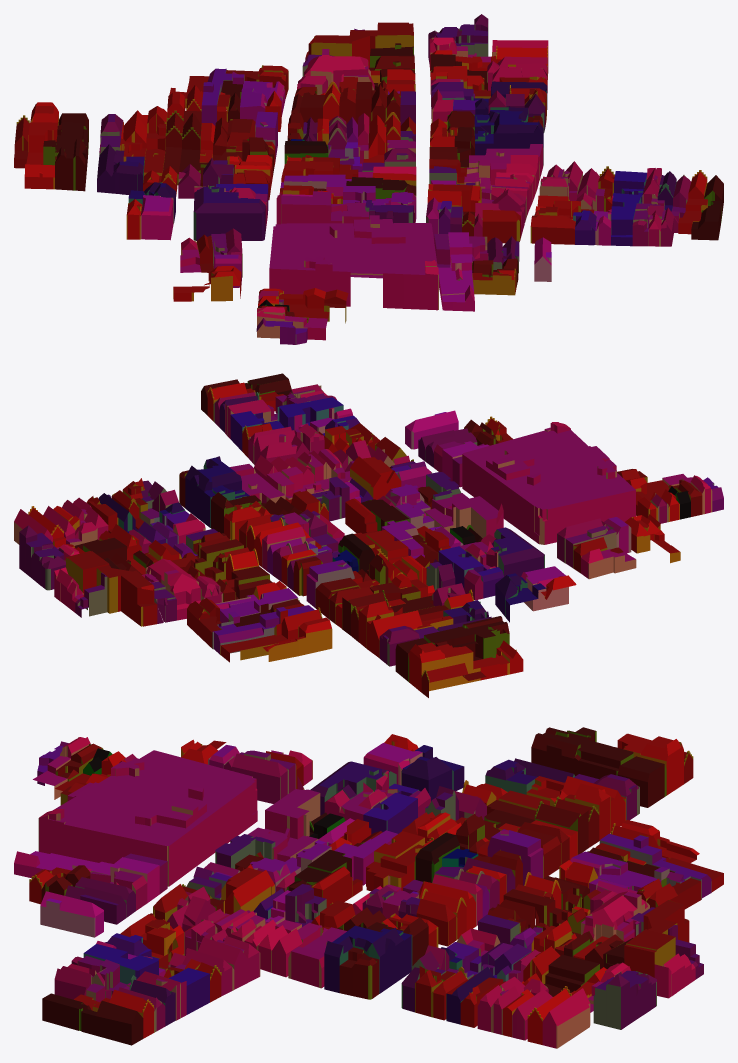
File: buildings_9_10.glb
The picture shows the model from 3 angles, top to bottom: view 1: azimuth 30°, elevation 25°; view 2: azimuth 150°, elevation 25°; view 3: azimuth 270°, elevation 25°; orthographic projection. The views are drawn at different scales.
Parts seen in each view (by area): view 1: buildings_9_10; view 2: buildings_9_10; view 3: buildings_9_10.
Boxes of the visible parts, left/top/right/bottom form: buildings_9_10: left=14, top=14, right=723, bottom=344; buildings_9_10: left=14, top=373, right=723, bottom=697; buildings_9_10: left=14, top=727, right=723, bottom=1048.
Bounding box in the file's own units: 223 × 19.88 × 224.
